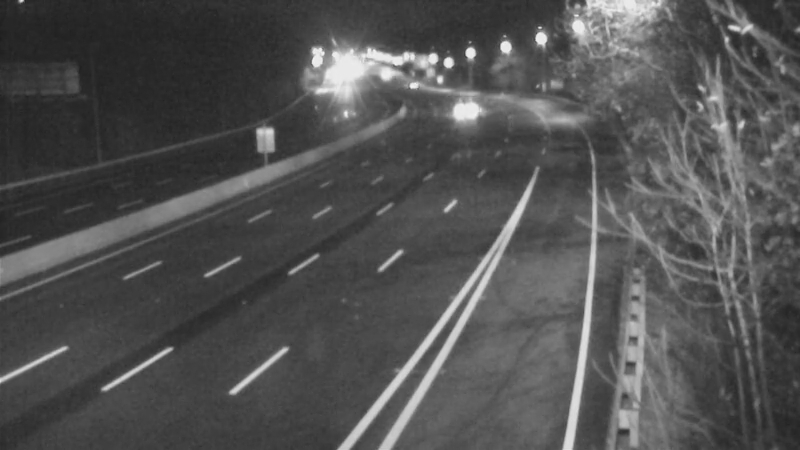vehicle: (359, 49, 409, 99), (387, 58, 437, 108), (452, 84, 502, 134)
